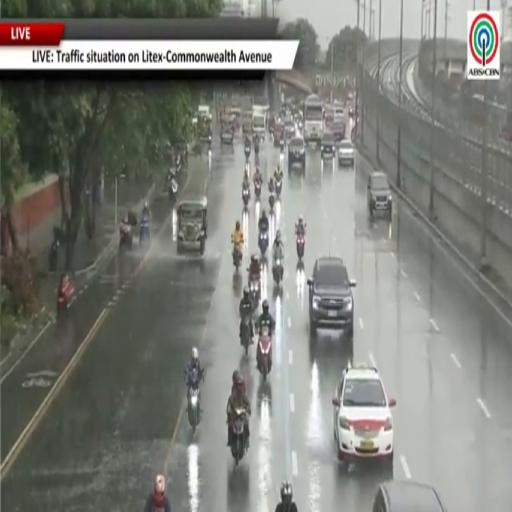bus: (303, 94, 323, 143)
car: (333, 363, 395, 471), (307, 256, 356, 340), (372, 480, 447, 511), (367, 171, 392, 219), (288, 137, 305, 170), (338, 140, 354, 166), (321, 132, 335, 159), (331, 120, 345, 143), (285, 118, 296, 139), (349, 106, 356, 118)
jeepney: (177, 197, 207, 254), (198, 105, 211, 141), (220, 115, 234, 144), (230, 106, 241, 130), (242, 111, 252, 136)
motorcycle: (231, 408, 247, 465), (188, 368, 202, 431), (257, 327, 271, 381), (57, 278, 74, 313), (240, 314, 252, 356), (249, 278, 260, 310), (120, 222, 133, 248), (49, 239, 59, 271), (273, 259, 283, 284), (168, 179, 178, 203), (140, 219, 149, 245), (296, 234, 305, 260), (233, 247, 242, 271), (259, 231, 268, 255), (242, 187, 250, 207), (275, 180, 282, 199), (269, 190, 275, 211), (255, 182, 261, 200), (245, 160, 250, 174), (245, 146, 250, 159), (208, 135, 212, 151), (280, 139, 284, 153), (255, 142, 259, 154)
truck: (252, 105, 266, 140)
